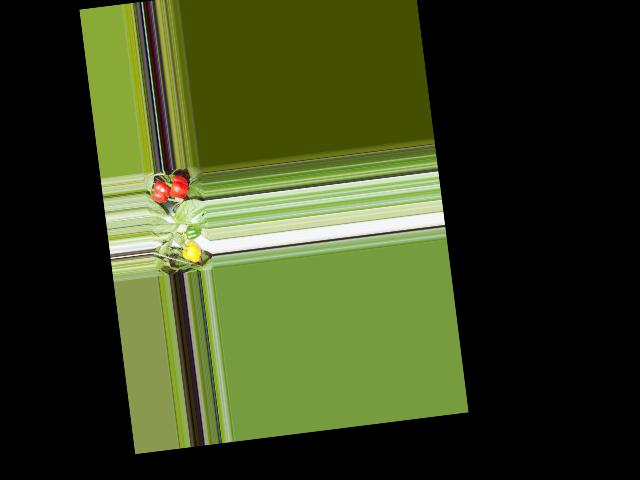bell_pepper: (180, 238, 204, 266)
